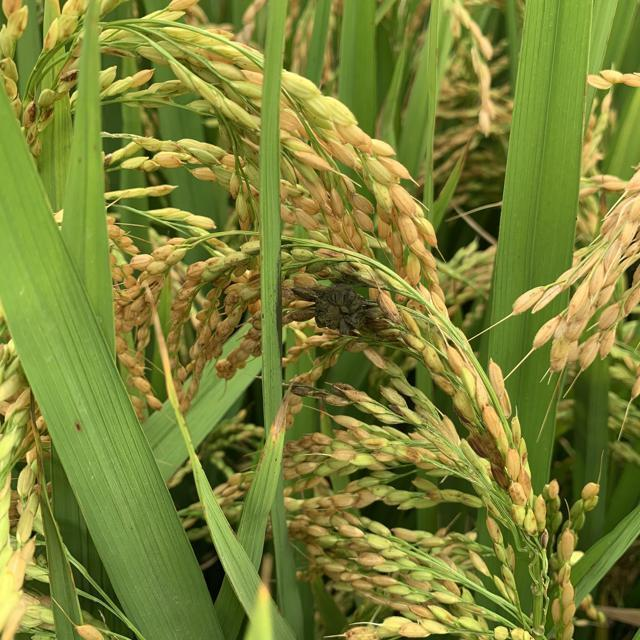Leaf_Scald: (308, 280, 374, 338)
